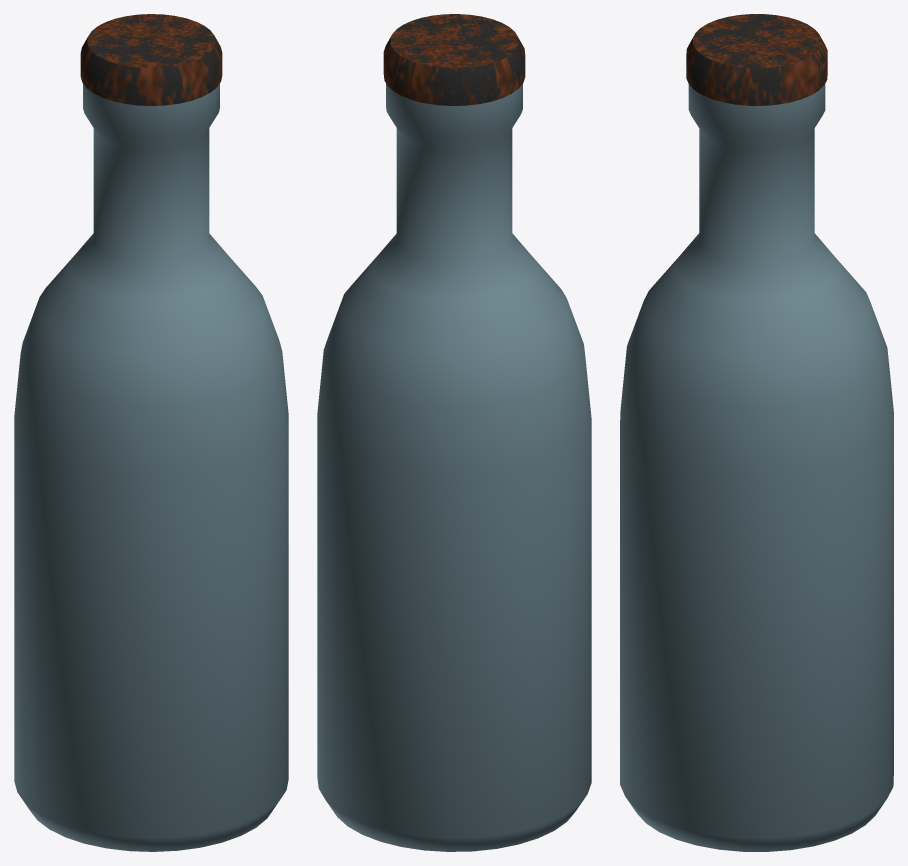
The model's file is SM_Bottle_f9ea75bad9.fbx.
The picture shows the model from 3 angles, left to right: view 1: azimuth 30°, elevation 25°; view 2: azimuth 150°, elevation 25°; view 3: azimuth 270°, elevation 25°; orthographic projection.
Parts seen in each view (by area): view 1: SM_Bottle_f9ea75bad9; view 2: SM_Bottle_f9ea75bad9; view 3: SM_Bottle_f9ea75bad9.
Boxes of the visible parts, bbox=[...] form: SM_Bottle_f9ea75bad9: bbox=[14, 14, 288, 851]; SM_Bottle_f9ea75bad9: bbox=[317, 14, 591, 851]; SM_Bottle_f9ea75bad9: bbox=[620, 14, 893, 851].
Size of what is drawn, in the model's own units: 12.76 by 12.76 by 39.4.
Materials: 2 (1 with a texture image).
